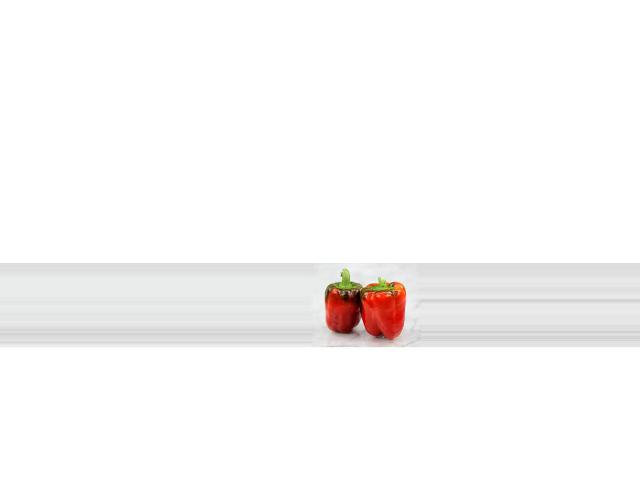bell_pepper: (361, 273, 413, 339)
